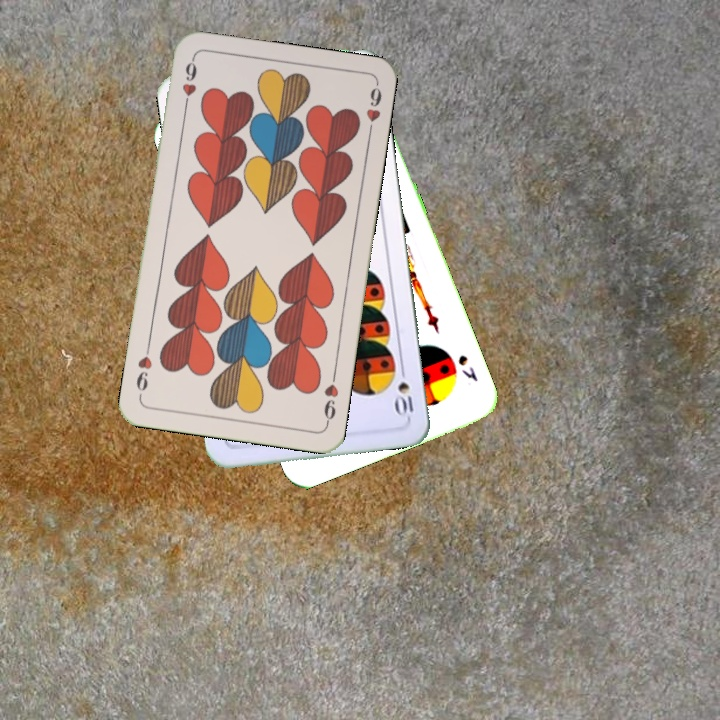H9: (319, 369, 341, 428), (178, 55, 200, 114)
S10: (392, 361, 416, 420)
SK: (453, 350, 481, 384)
